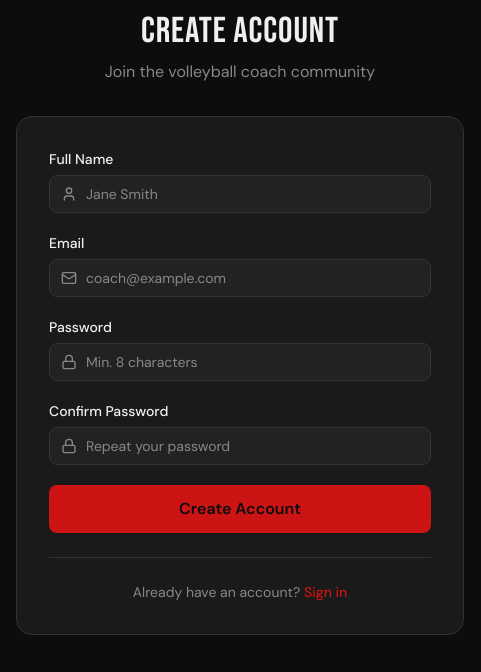
Scenario: Register page › shows validation error when name is too short
In the field with placeholder "Jane Smith": (240, 194) [49,175,431,213], type "A"
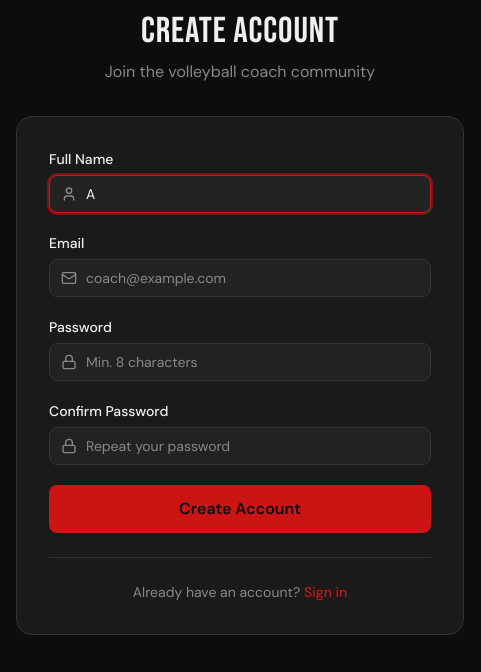
Click the button "Create Account": (240, 509) [49,485,431,533]
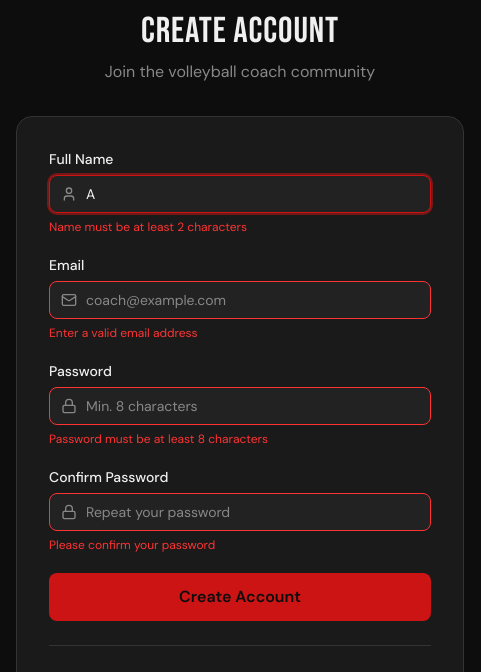
Expected: the text "Name must be at least 2 characters" is shown, [49,219,247,235]
